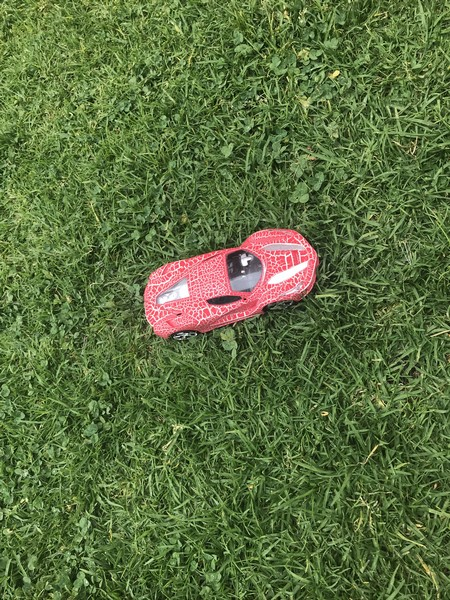RC: (142, 228, 321, 345)
